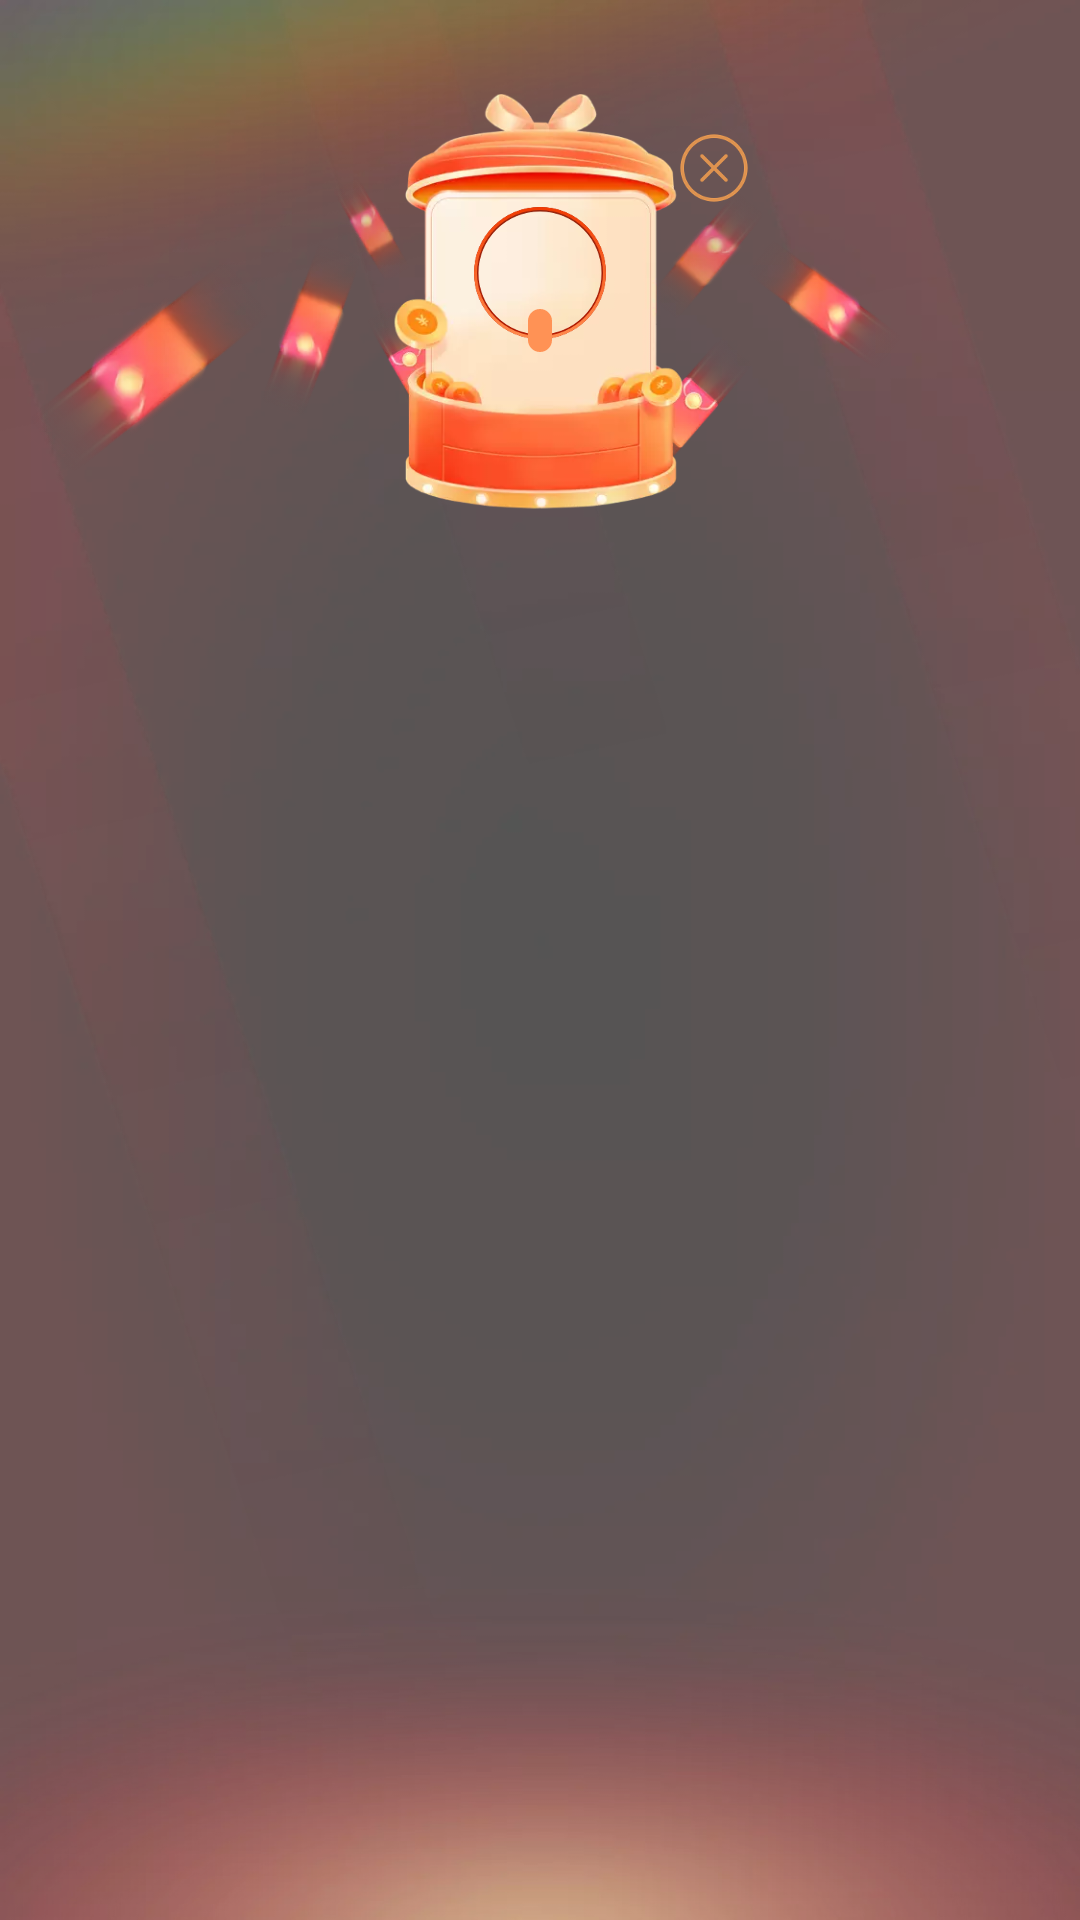

Icons on this 1080x1920 Android screen, each with its box as [left=x1, top=y1, right=x2, bottom=y2]:
close envelop war: [left=680, top=134, right=748, bottom=202]
